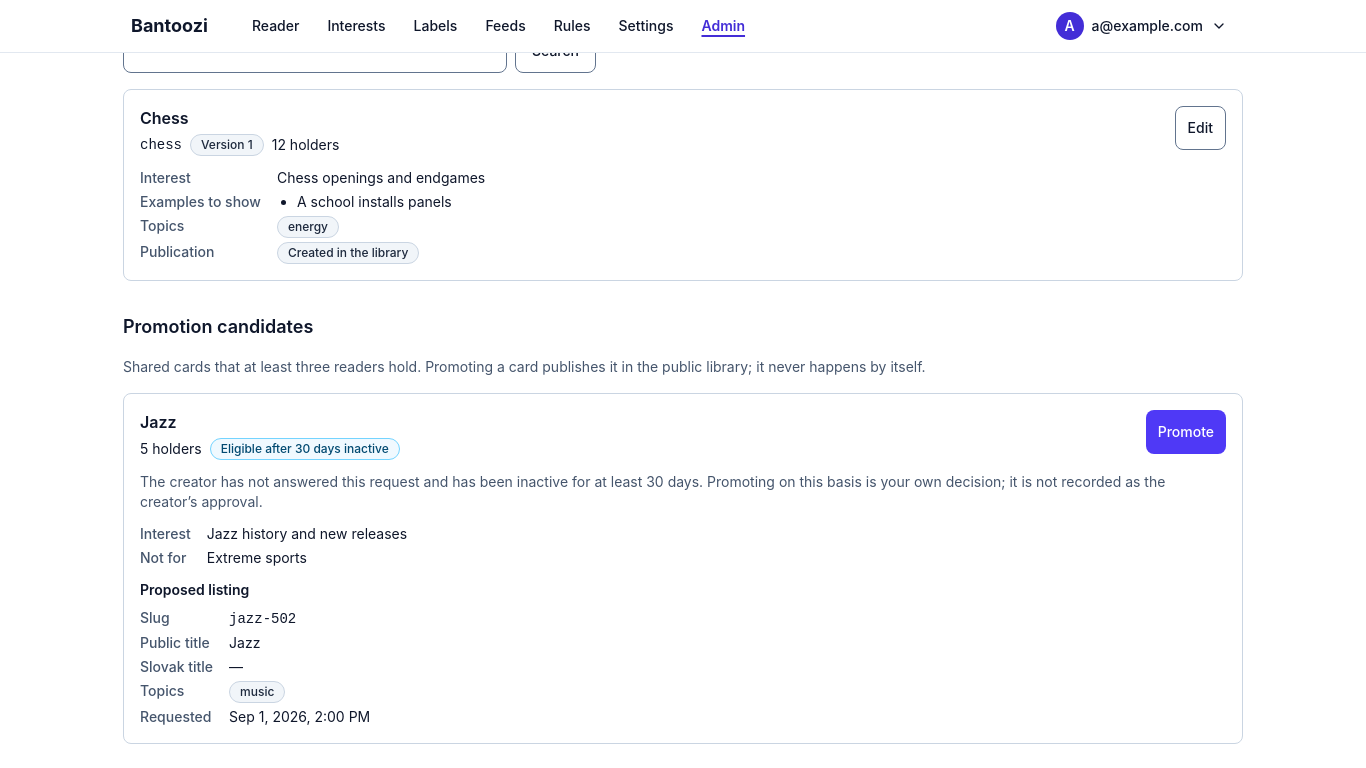
Test: admin library (spec 09 §8) › promoting › refetches and explains a promotion refused because the eligibility changed (409)
The image size is (1366, 768).
(page scrolled)
Check: the heading "Promotion candidates" is shown, box [123,316,313,337]
Click the button with aria-label "Promote Jazz".
click(1186, 432)  # box [1146,410,1226,454]
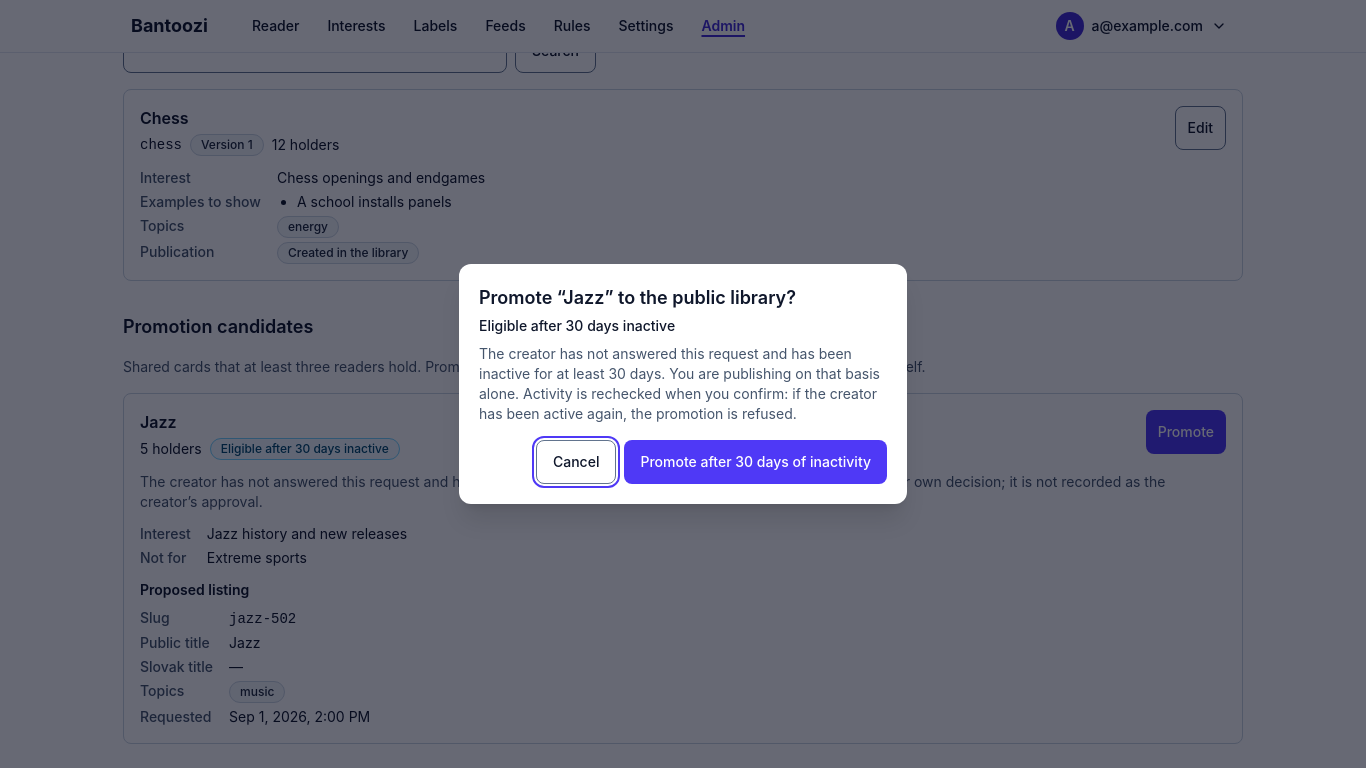
Click the button "Promote after 30 days of inactivity".
click(756, 462)  # box [624,440,887,484]
(page scrolled)
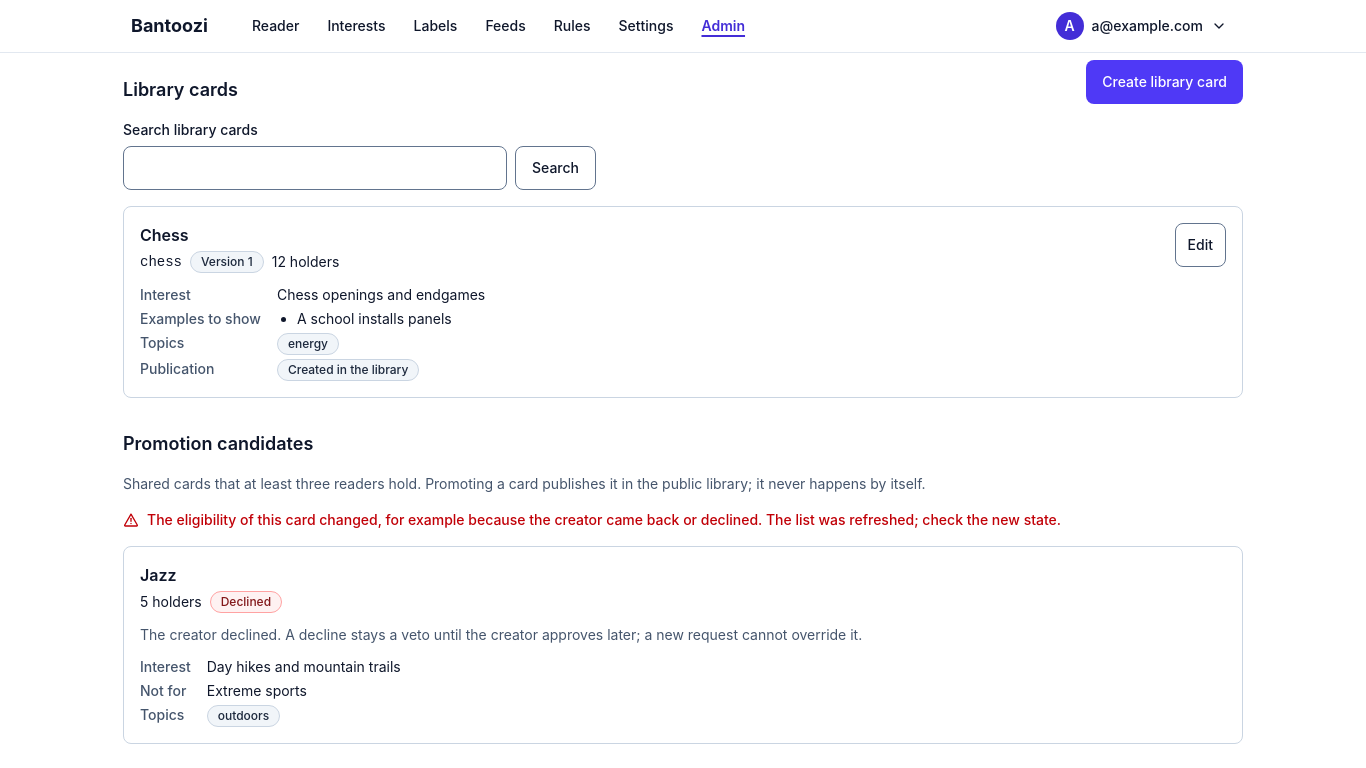
Check: the text "The eligibility of this card changed, for example because the creator came back or declined. The list was refreshed; che" is shown, box [147,511,1061,528]
Check: the dialog is gone
Check: the text "Declined" is shown, box [210,591,282,613]
